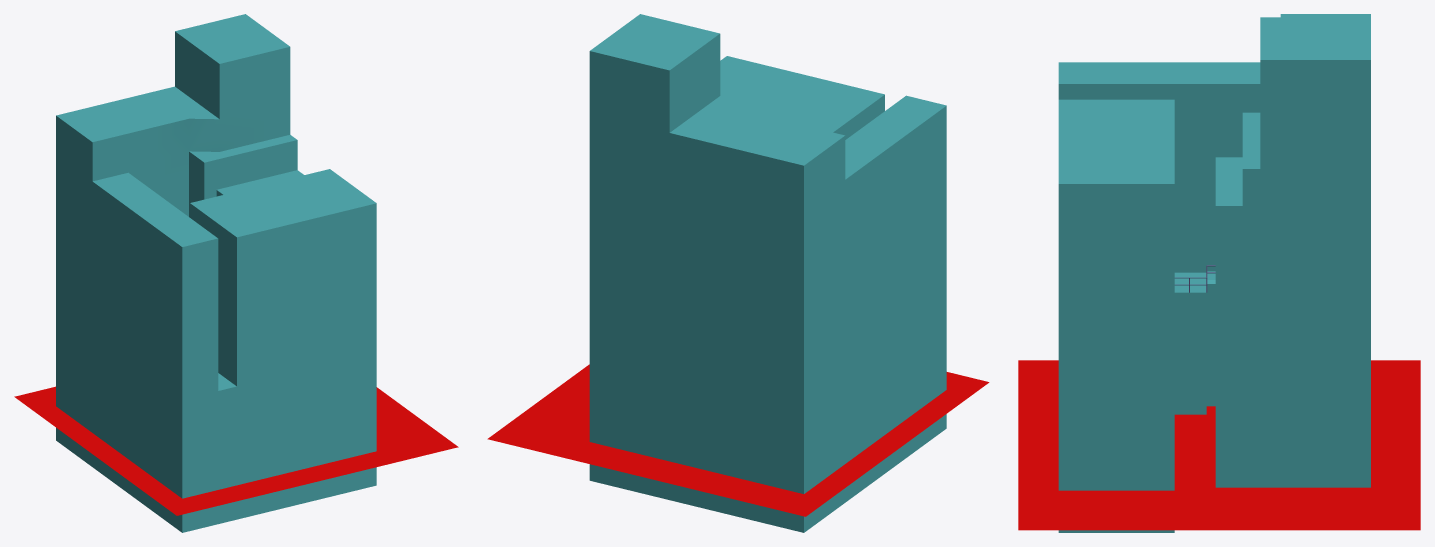
File: streetScene.fbx
3 views of the same model, side by side, from view 1: azimuth 30°, elevation 25°; view 2: azimuth 150°, elevation 25°; view 3: azimuth 270°, elevation 25° (orthographic). The views are drawn at different scales.
Visible parts, largest first — view 1: walls, ground; view 2: walls, ground; view 3: walls, ground.
Part boxes in pixels (x1,y1,x2,y2): walls: (56,14,376,532); ground: (14,386,458,515); walls: (589,14,946,532); ground: (487,364,989,516); walls: (1058,14,1370,532); ground: (1018,360,1420,530).
Size of the model in its own units: 113 by 146 by 113.
